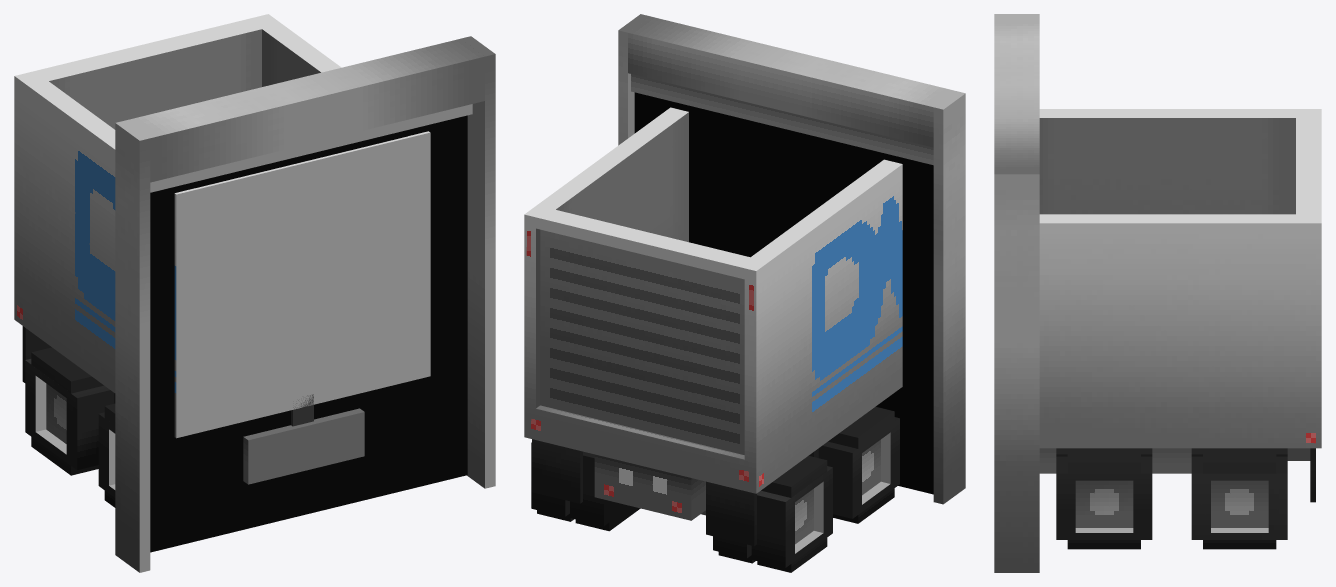
File: Truck End.gltf
3 views of the same model, side by side, from view 1: azimuth 30°, elevation 25°; view 2: azimuth 150°, elevation 25°; view 3: azimuth 270°, elevation 25° (orthographic). The views are drawn at different scales.
Visible parts, largest first — view 1: cube (×9), plane; view 2: cube (×11), plane; view 3: cube (×6).
Part boxes in pixels (box(x1,y1,x2,y2)): cube (×9): box(14, 14, 495, 572); plane: box(150, 115, 467, 552); cube (×11): box(524, 14, 965, 572); plane: box(634, 92, 933, 494); cube (×6): box(994, 18, 1321, 572).
Bounding box in the file's own units: 1.05 × 1.22 × 0.9063.
2 materials, 2 textured.
